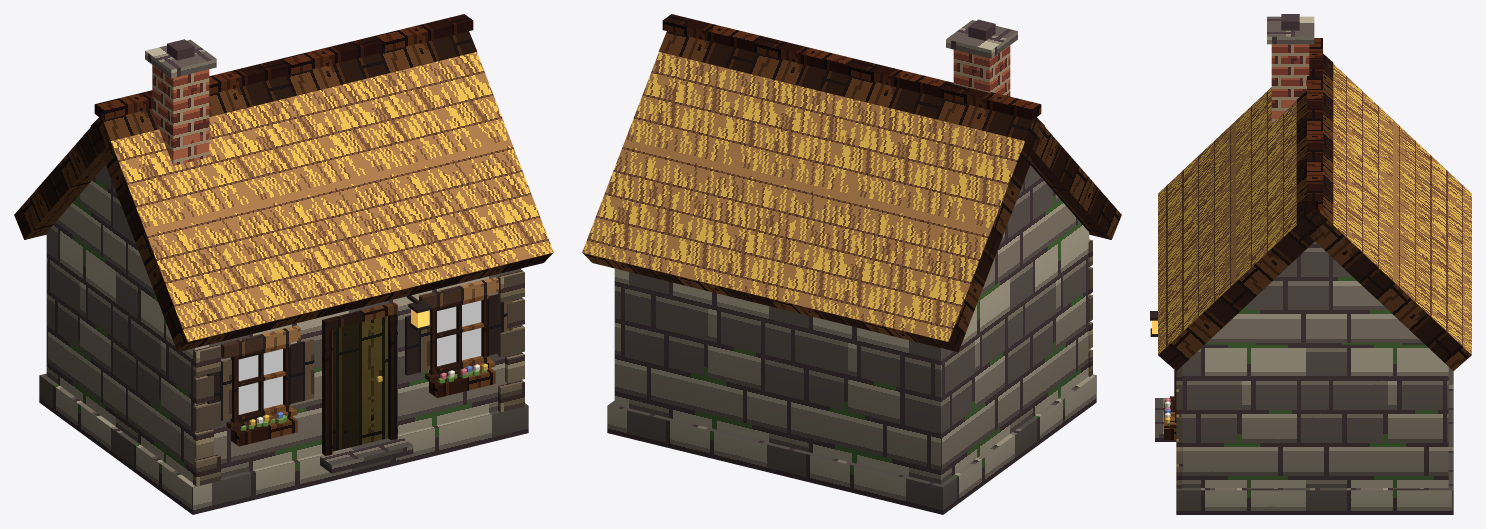
Rendered from cottage_stone.glb.
3 renders of one model, left to right at view 1: azimuth 30°, elevation 25°; view 2: azimuth 150°, elevation 25°; view 3: azimuth 270°, elevation 25°, orthographic. The views are drawn at different scales.
Parts seen in each view (by area): view 1: cottage_stone; view 2: cottage_stone; view 3: cottage_stone.
Boxes of the visible parts, x1,y1,x2,y2 form: cottage_stone: [14, 14, 553, 514]; cottage_stone: [582, 14, 1121, 514]; cottage_stone: [1150, 14, 1471, 514].
Size of the model in its own units: 6.34 by 6.74 by 5.29.
Materials: 7 (4 with a texture image).
